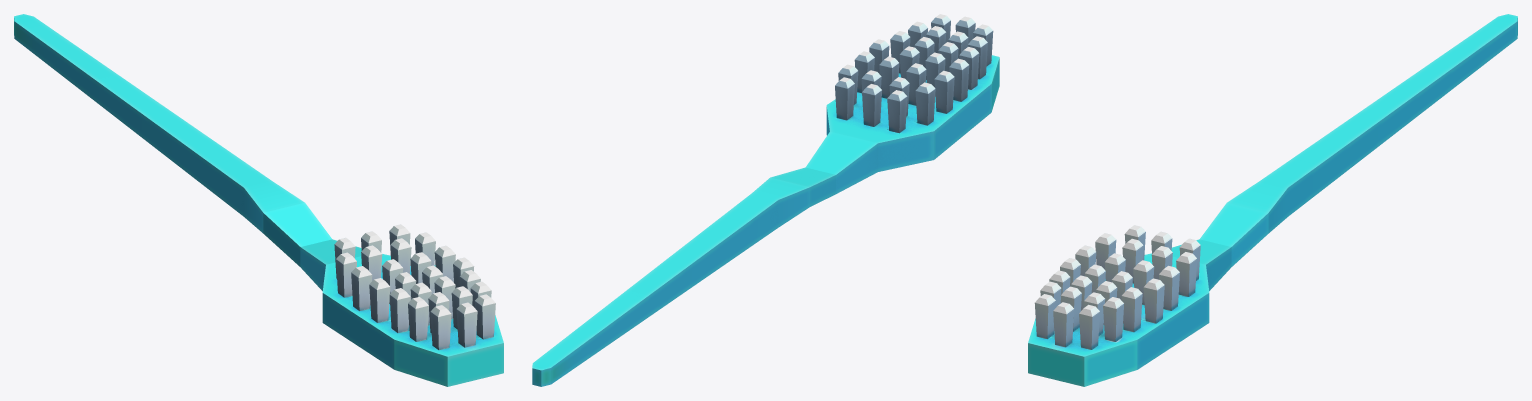
File: norma_tootbrushv2.fbx
3 views of the same model, side by side, from view 1: azimuth 30°, elevation 25°; view 2: azimuth 150°, elevation 25°; view 3: azimuth 330°, elevation 25° (orthographic). The views are drawn at different scales.
Parts seen in each view (by area): view 1: polySurface2; view 2: polySurface2; view 3: polySurface2.
Boxes of the visible parts, box(x1,y1,x2,y2) form: polySurface2: box(14, 14, 503, 386); polySurface2: box(532, 14, 999, 386); polySurface2: box(1028, 14, 1517, 386).
Size of the model in its own units: 0.0163 by 0.0096 by 0.1148.
Materials: 1 (1 with a texture image).
